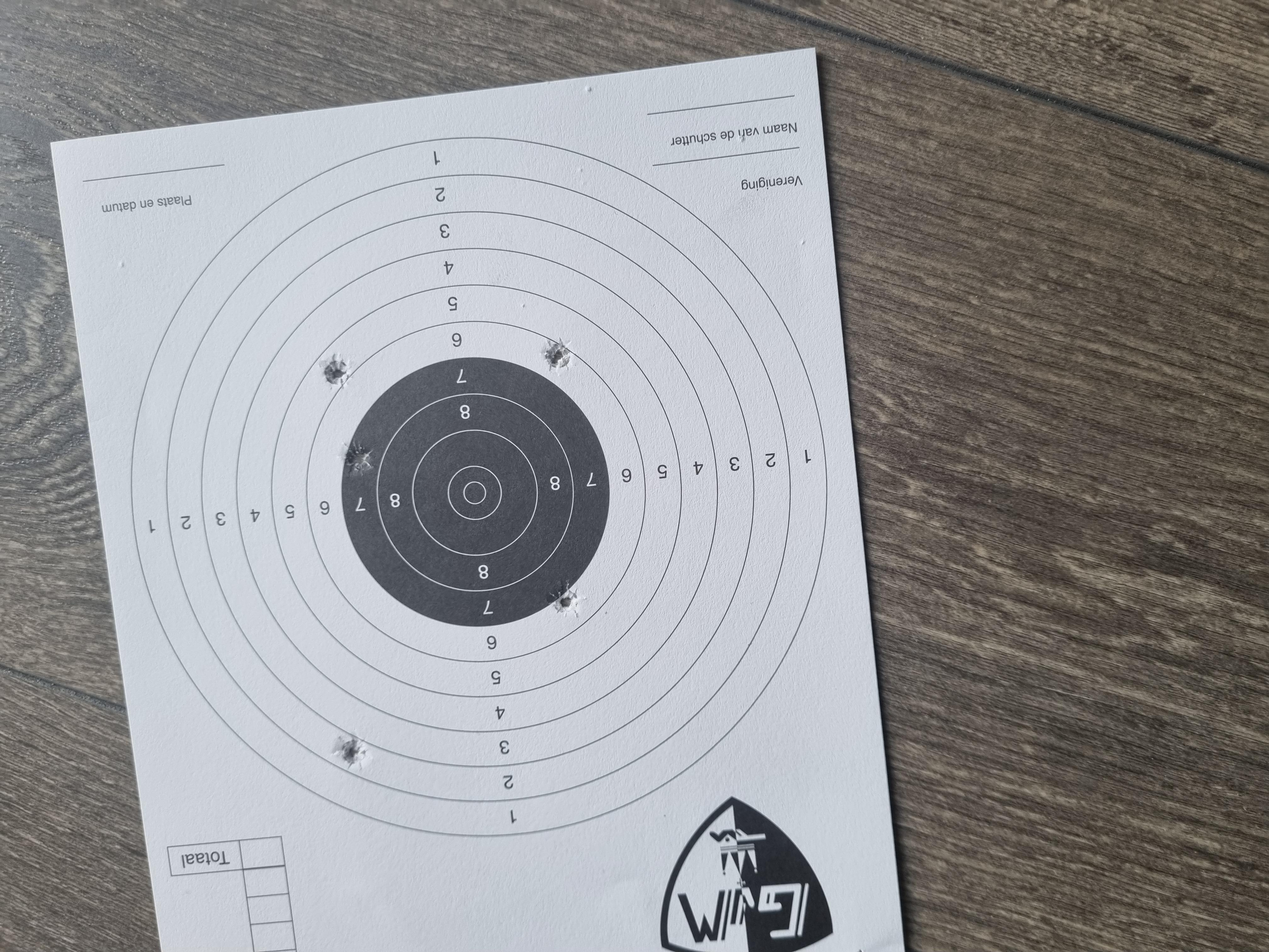hole: (445, 411, 490, 438), (243, 252, 289, 278), (632, 257, 682, 280), (749, 241, 797, 263), (772, 406, 820, 428)
